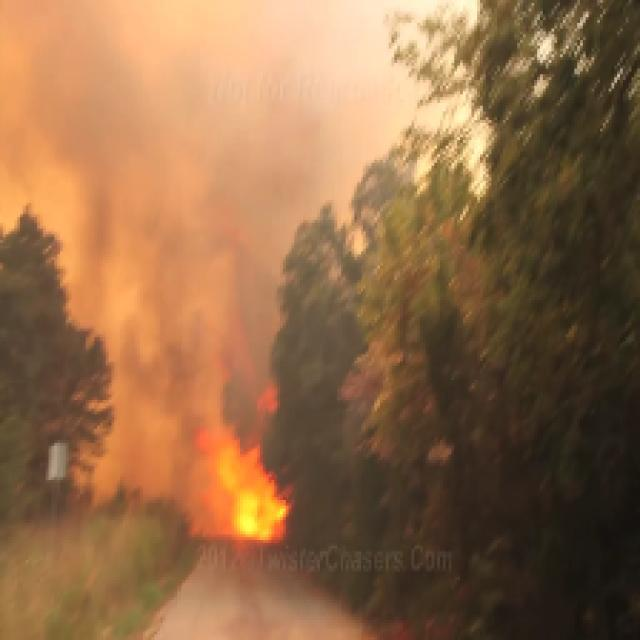Fire: (122, 354, 372, 583)
Smoke: (0, 0, 437, 320)
